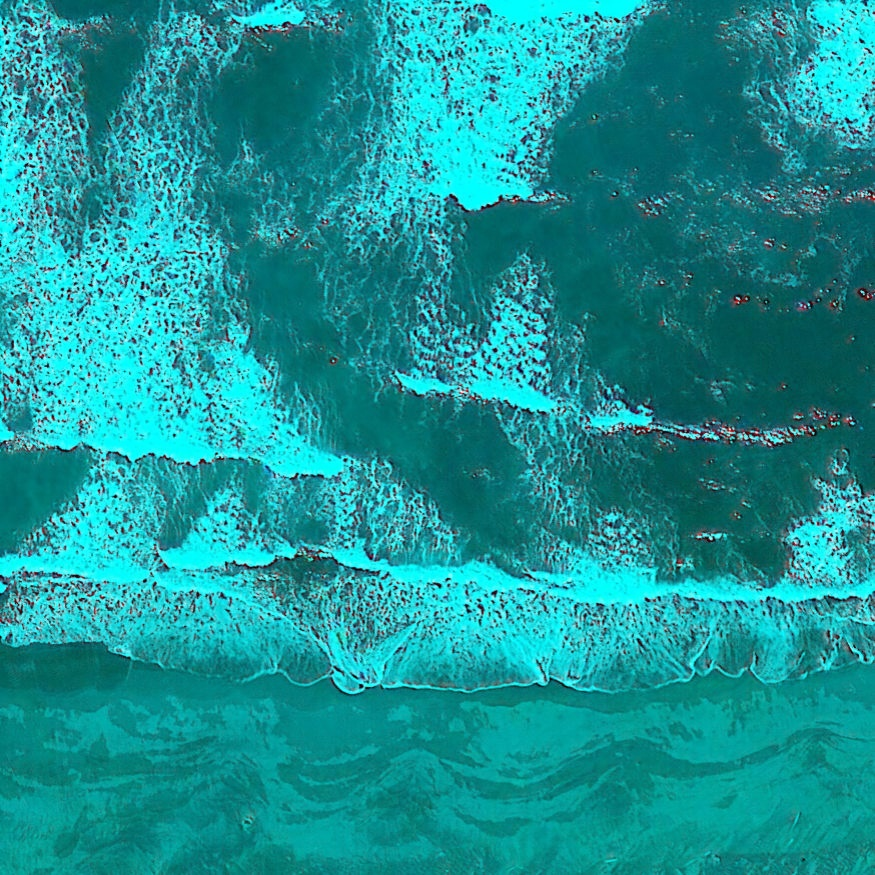rip_current: (115, 57, 591, 570)
